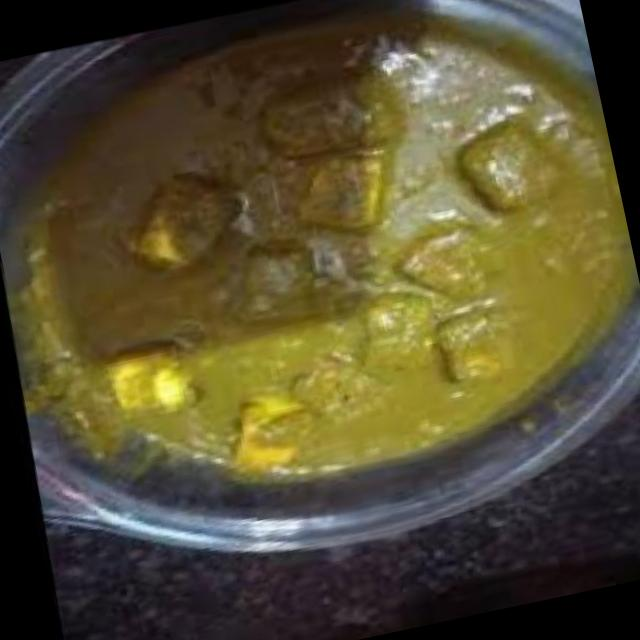palak_paneer: (0, 0, 640, 537)
